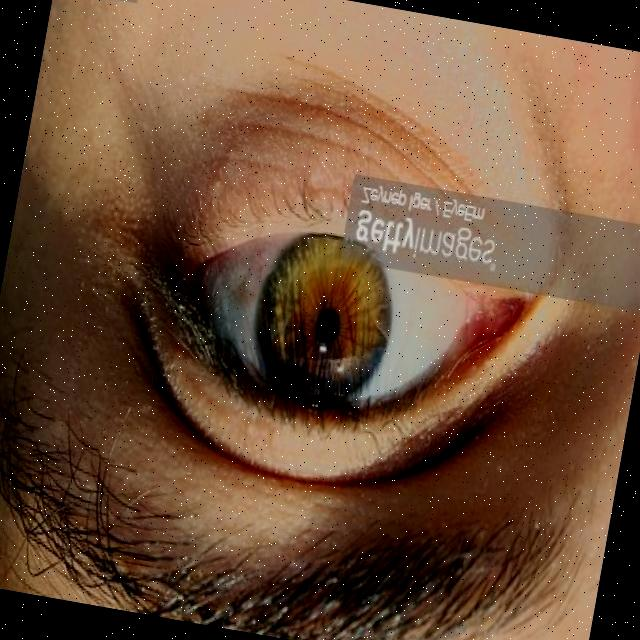Normal: (97, 132, 587, 510)
